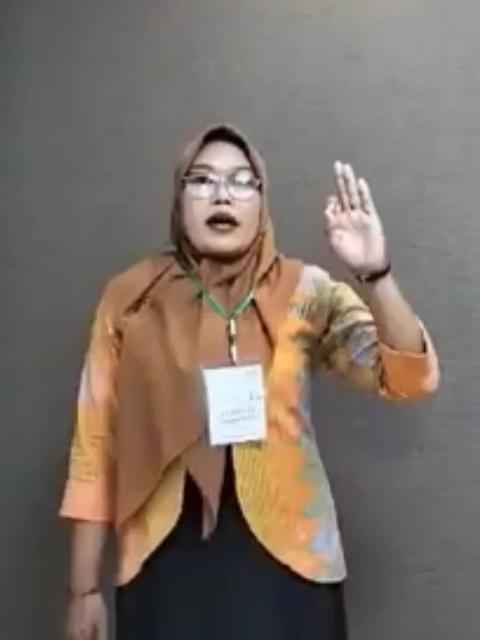F: (312, 159, 392, 265)
